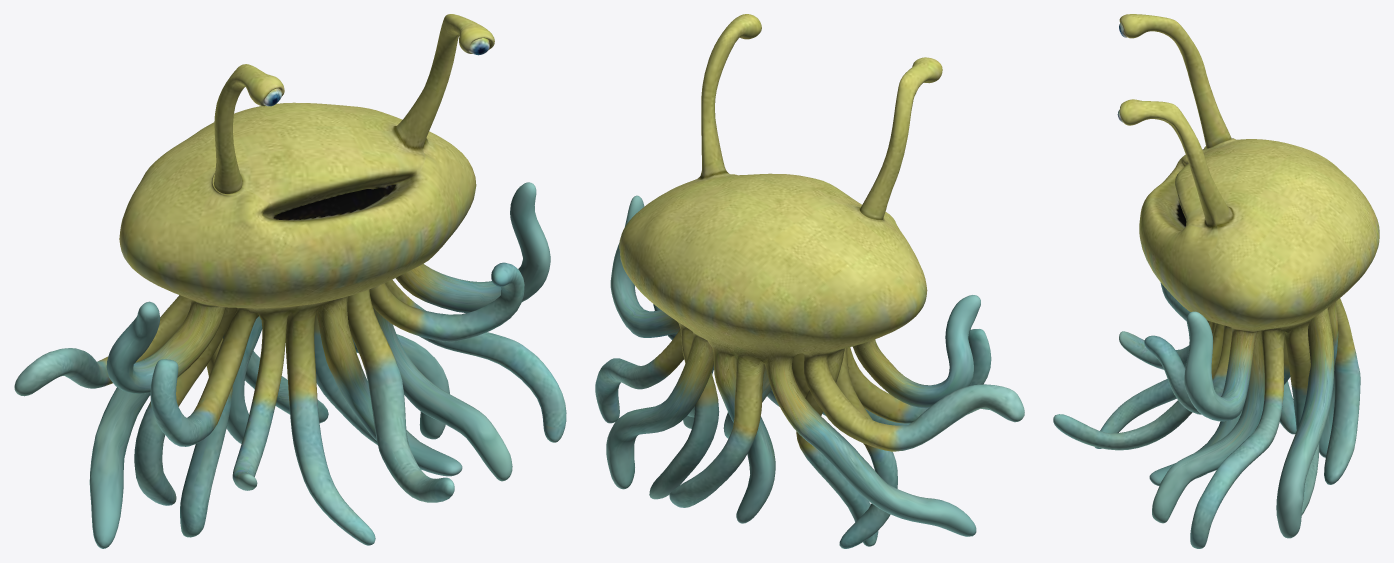
File: MZ4250 - Flumph.glb
3 views of the same model, side by side, from view 1: azimuth 30°, elevation 25°; view 2: azimuth 150°, elevation 25°; view 3: azimuth 270°, elevation 25° (orthographic). The views are drawn at different scales.
Parts seen in each view (by area): view 1: Square.001; view 2: Square.001; view 3: Square.001.
Part boxes in pixels (<box>): Square.001: <box>14,14,566,548</box>; Square.001: <box>595,14,1024,548</box>; Square.001: <box>1053,14,1379,548</box>.
Size of the model in its own units: 40.25 by 37.62 by 25.89.
Materials: 1 (1 with a texture image).
